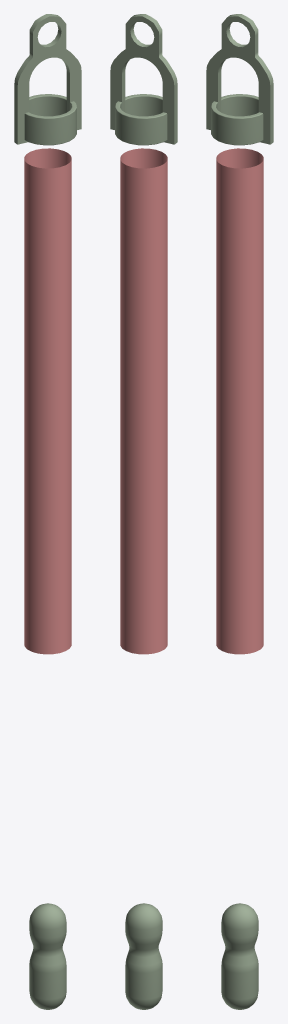
File: LP_ForTexturing_Thermometer_01.fbx
The picture shows the model from 3 angles, left to right: view 1: azimuth 30°, elevation 25°; view 2: azimuth 150°, elevation 25°; view 3: azimuth 330°, elevation 25°; orthographic projection.
Visible parts, largest first — view 1: polySurface11; view 2: polySurface11; view 3: polySurface11.
Boxes of the visible parts, x1,y1,x2,y2 form: polySurface11: (14, 14, 81, 1009); polySurface11: (110, 14, 177, 1009); polySurface11: (206, 14, 273, 1009).
Bounding box in the file's own units: 1.09 × 16.1 × 0.8576.
